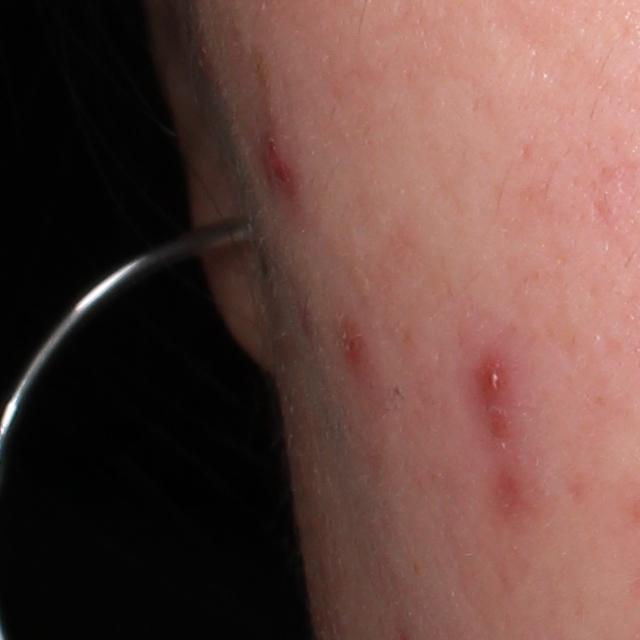atrophic_scar: (589, 194, 617, 234)
papule: (256, 134, 297, 188), (475, 354, 510, 407), (343, 324, 371, 370)
